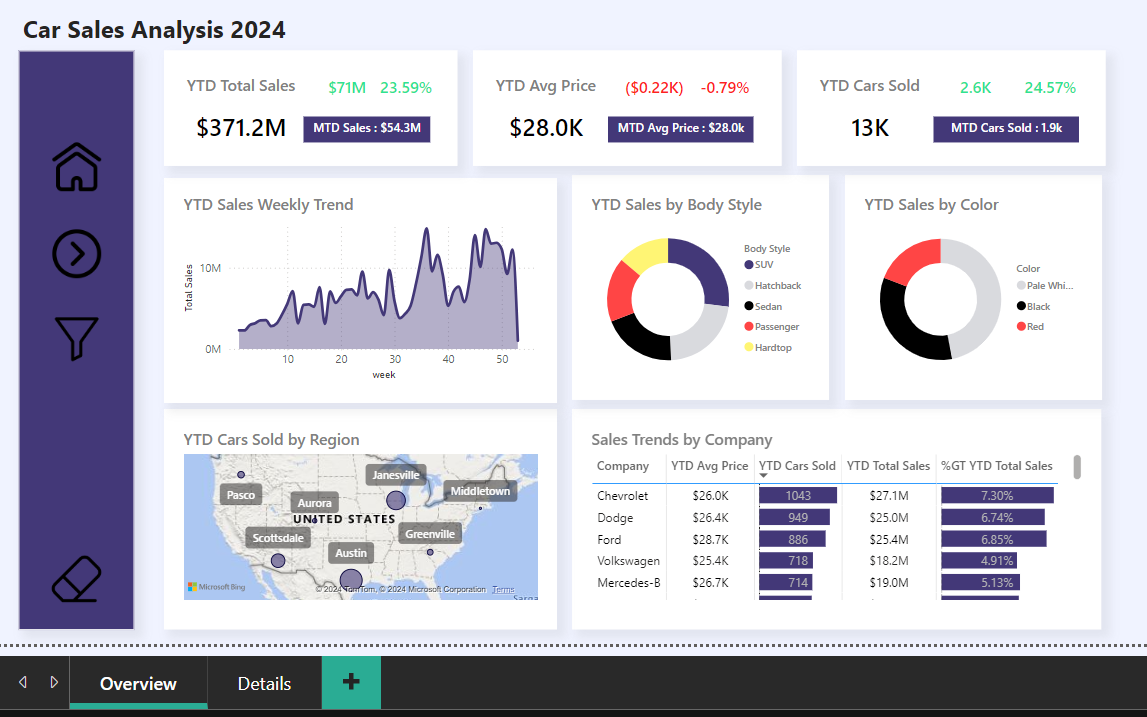

Layout of this report page (visuals, bound fields, positions):
{"tool":"powerbi","page":{"name":"Overview","canvas":[1280,720],"ordinal":0},"visuals":[{"type":"shape","box":[32,64,128,640],"z":0},{"type":"shape","box":[192,64,323.9,127.2],"z":0,"group":"g4"},{"type":"shape","box":[532.9,64,340.9,127.2],"z":0,"group":"g5"},{"type":"shape","box":[891,64,340.9,127.2],"z":0,"group":"g6"},{"type":"group","id":"g1","title":"Slicer Panel","box":[160,208,432,416],"z":0,"group":"g3"},{"type":"shape","box":[192,208,400,416],"z":0,"group":"g1"},{"type":"shape","box":[642.8,460.7,584.4,243.3],"z":0,"group":"g2"},{"type":"textbox","box":[32,16,448,64],"z":1000},{"type":"card","title":"YTD Total Sales","fields":{"Values":["key metrics.YTD Total Sales"]},"box":[209.4,90.5,136.6,94],"z":1000,"group":"g4"},{"type":"card","title":"YTD Avg Price","fields":{"Values":["key metrics.YTD Avg Price"]},"box":[532.6,90.5,160.8,94],"z":1000,"group":"g5"},{"type":"card","title":"YTD Cars Sold","fields":{"Values":["key metrics.YTD Cars Sold"]},"box":[890.5,90.5,160.8,94],"z":1000,"group":"g6"},{"type":"slicer","fields":{"Values":["car_data.Body Style"]},"box":[264,240,216,72],"z":1000,"group":"g3"},{"type":"shape","box":[160,368,32,32],"z":1000,"group":"g1"},{"type":"shape","box":[192,460.7,434.1,243.3],"z":1000,"group":"g2"},{"type":"card","title":"YTD Total Sales","fields":{"Values":["key metrics.Sales diff"]},"box":[345.9,73.7,95.1,63.8],"z":2000,"group":"g4"},{"type":"card","title":"YTD Total Sales","fields":{"Values":["key metrics.Avg Price Diff"]},"box":[684.7,73.7,95.1,63.8],"z":2000,"group":"g5"},{"type":"card","title":"YTD Total Sales","fields":{"Values":["key metrics.Cars Sold diff"]},"box":[1039.2,73.7,95.1,63.8],"z":2000,"group":"g6"},{"type":"image","box":[32,160,128,64],"z":2000},{"type":"shape","box":[192,204.3,434.1,248.4],"z":2000,"group":"g2"},{"type":"slicer","fields":{"Values":["car_data.Dealer_Region"]},"box":[264,336,216,72],"z":2000,"group":"g3"},{"type":"card","title":"YTD Total Sales","fields":{"Values":["key metrics.yoy growth%"]},"box":[413.4,73.7,89.9,63.8],"z":3000,"group":"g4"},{"type":"card","title":"YTD Total Sales","fields":{"Values":["key metrics.avg price diff%"]},"box":[762.5,73.7,95.1,63.8],"z":3000,"group":"g5"},{"type":"card","title":"YTD Total Sales","fields":{"Values":["key metrics.Car Sold diff%"]},"box":[1122.1,73.7,95.1,63.8],"z":3000,"group":"g6"},{"type":"image","box":[32,256,128,64],"z":3000},{"type":"slicer","fields":{"Values":["car_data.Transmission"]},"box":[264,432,216,72],"z":3000,"group":"g3"},{"type":"map","title":"YTD Cars Sold by Region","fields":{"Category":["car_data.Dealer_Region"],"Size":["key metrics.YTD Cars Sold"]},"box":[208.7,481.3,400.7,194.6],"z":3000,"group":"g2"},{"type":"card","fields":{"Values":["key metrics.MTD KPI"]},"box":[345.9,137.5,140,28.5],"z":4000,"group":"g4"},{"type":"card","fields":{"Values":["key metrics.MTD Avg Price KPI"]},"box":[681.3,137.5,160.8,28.5],"z":4000,"group":"g5"},{"type":"card","fields":{"Values":["key metrics.MTD Cars sold KPI"]},"box":[1040.9,137.5,160.8,28.5],"z":4000,"group":"g6"},{"type":"tableEx","title":"Sales Trends by Company","fields":{"Values":["car_data.Company","key metrics.YTD Avg Price","key metrics.YTD Cars Sold","key metrics.YTD Total Sales1","key metrics.YTD Total Sales"]},"box":[659.5,481.3,551,194.6],"z":4000,"group":"g2"},{"type":"slicer","fields":{"Values":["car_data.Engine"]},"box":[264,528,216,72],"z":4000,"group":"g3"},{"type":"group","id":"g2","title":"Group 4","box":[192,64,1040,640],"z":5000},{"type":"areaChart","title":"YTD Sales Weekly Trend","fields":{"Category":["Date_Table.week"],"Y":["key metrics.Total Sales"]},"box":[208.7,220.5,400.7,210.9],"z":5000,"group":"g2"},{"type":"shape","box":[642.8,201.8,283.8,248.4],"z":6000,"group":"g2"},{"type":"group","id":"g3","title":"Slicer Panel","box":[160,208,432,416],"z":6000},{"type":"shape","box":[943.3,201.8,283.8,248.4],"z":7000,"group":"g2"},{"type":"image","box":[32,352,128,64],"z":7000},{"type":"group","id":"g4","title":"Group 1","box":[192,64,323.9,127.2],"z":8000,"group":"g2"},{"type":"image","box":[24,600,144,96],"z":8000},{"type":"group","id":"g5","title":"Group 2","box":[532.6,64,341.3,127.2],"z":9000,"group":"g2"},{"type":"group","id":"g6","title":"Group 3","box":[890.5,64,341.5,127.2],"z":10000,"group":"g2"},{"type":"donutChart","title":"YTD Sales by Body Style","fields":{"Y":["key metrics.YTD Total Sales"],"Category":["car_data.Body Style"]},"box":[658.9,222,250.4,210.9],"z":11000,"group":"g2"},{"type":"donutChart","title":"YTD Sales by Color","fields":{"Y":["key metrics.YTD Total Sales"],"Category":["car_data.Color"]},"box":[960,221.8,250.4,210.9],"z":12000,"group":"g2"}]}

Visuals, with their boxes on the page's 1280x720 design canvas (x1, y1, x2, y2). These are canvas units, not pixel positions in the 1147x717 screenshot, which may show the page scaled, cropped or inside an application window:
shape: [32, 64, 160, 704]
shape: [192, 64, 516, 191]
shape: [533, 64, 874, 191]
shape: [891, 64, 1232, 191]
"Slicer Panel" group: [160, 208, 592, 624]
shape: [192, 208, 592, 624]
shape: [643, 461, 1227, 704]
textbox: [32, 16, 480, 80]
"YTD Total Sales" card: [209, 90, 346, 184]
"YTD Avg Price" card: [533, 90, 693, 184]
"YTD Cars Sold" card: [890, 90, 1051, 184]
slicer - car_data.Body Style: [264, 240, 480, 312]
shape: [160, 368, 192, 400]
shape: [192, 461, 626, 704]
"YTD Total Sales" card: [346, 74, 441, 138]
"YTD Total Sales" card: [685, 74, 780, 138]
"YTD Total Sales" card: [1039, 74, 1134, 138]
image: [32, 160, 160, 224]
shape: [192, 204, 626, 453]
slicer - car_data.Dealer_Region: [264, 336, 480, 408]
"YTD Total Sales" card: [413, 74, 503, 138]
"YTD Total Sales" card: [762, 74, 858, 138]
"YTD Total Sales" card: [1122, 74, 1217, 138]
image: [32, 256, 160, 320]
slicer - car_data.Transmission: [264, 432, 480, 504]
"YTD Cars Sold by Region" map: [209, 481, 609, 676]
card - key metrics.MTD KPI: [346, 138, 486, 166]
card - key metrics.MTD Avg Price KPI: [681, 138, 842, 166]
card - key metrics.MTD Cars sold KPI: [1041, 138, 1202, 166]
"Sales Trends by Company" tableEx: [660, 481, 1210, 676]
slicer - car_data.Engine: [264, 528, 480, 600]
"Group 4" group: [192, 64, 1232, 704]
"YTD Sales Weekly Trend" areaChart: [209, 220, 609, 431]
shape: [643, 202, 927, 450]
"Slicer Panel" group: [160, 208, 592, 624]
shape: [943, 202, 1227, 450]
image: [32, 352, 160, 416]
"Group 1" group: [192, 64, 516, 191]
image: [24, 600, 168, 696]
"Group 2" group: [533, 64, 874, 191]
"Group 3" group: [890, 64, 1232, 191]
"YTD Sales by Body Style" donutChart: [659, 222, 909, 433]
"YTD Sales by Color" donutChart: [960, 222, 1210, 433]
